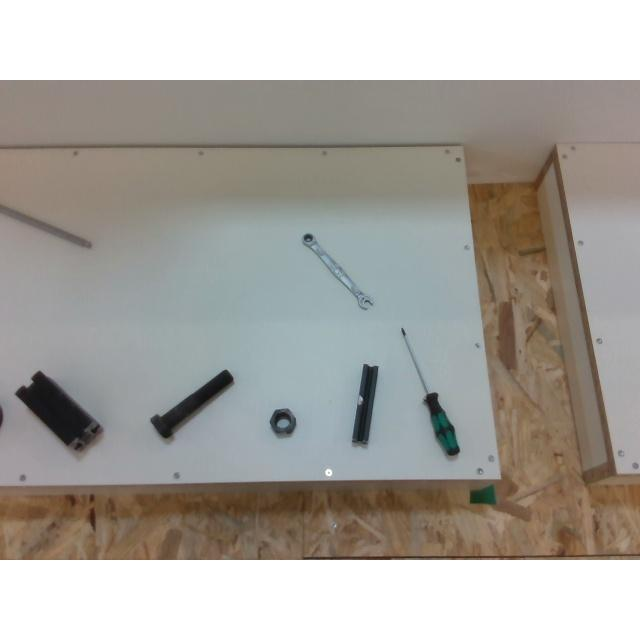AllenKey: (0, 205, 92, 250)
F20_20_B: (352, 364, 380, 444)
M20: (270, 407, 298, 435)
M20_100: (149, 368, 235, 440)
S40_40_B: (15, 371, 101, 449)
Screwdriver: (400, 327, 460, 457)
Wrench: (301, 232, 373, 308)
